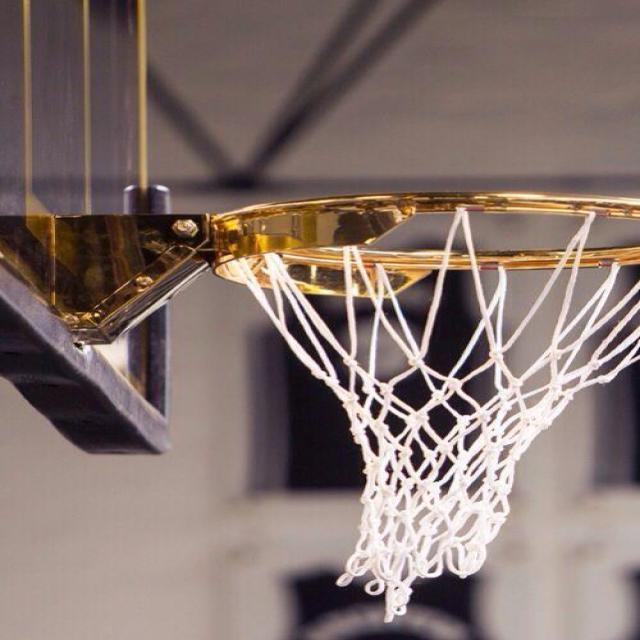hoop: (199, 185, 640, 592)
